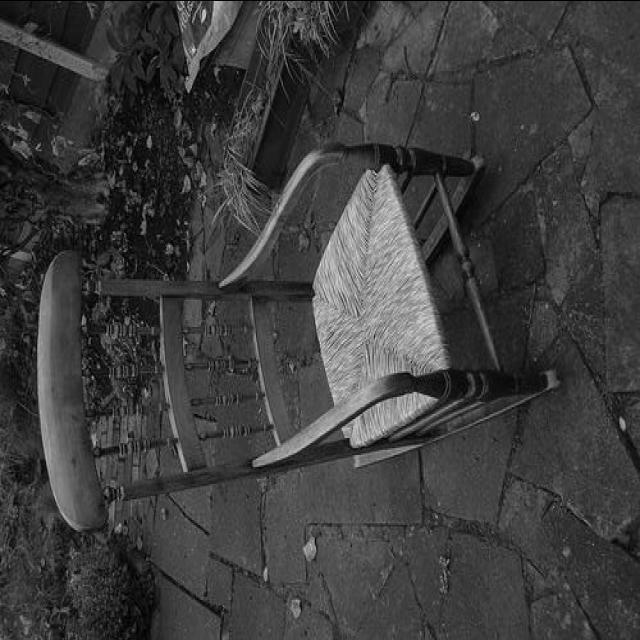chair: (36, 111, 562, 535)
